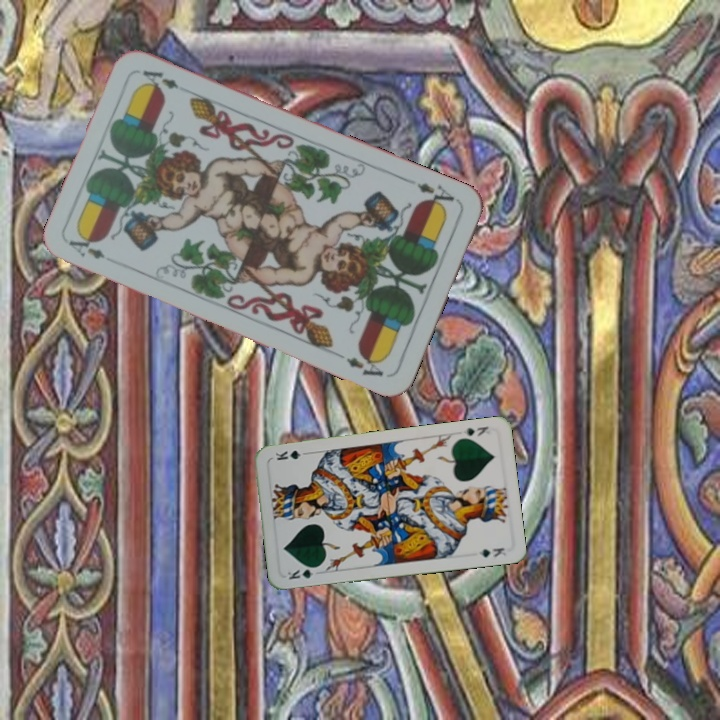EA: (412, 178, 461, 212), (64, 232, 108, 262)
GK: (283, 563, 322, 582), (459, 422, 491, 439)
